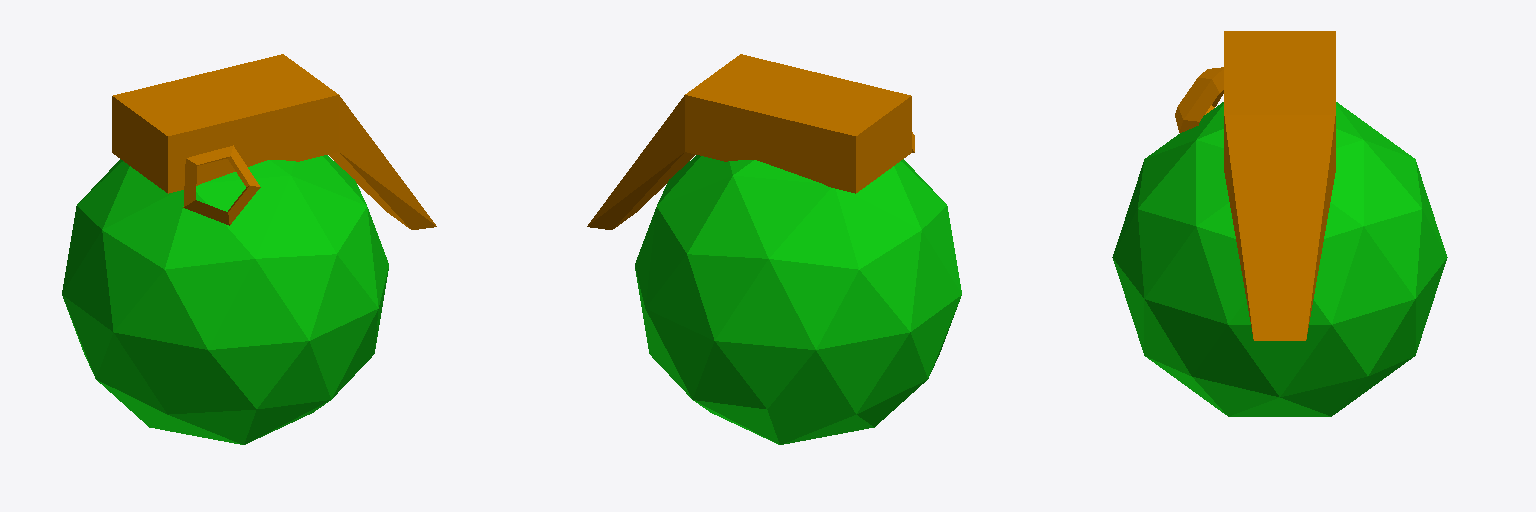
File: Grenade.obj
3 renders of one model, left to right at view 1: azimuth 30°, elevation 25°; view 2: azimuth 150°, elevation 25°; view 3: azimuth 270°, elevation 25°, orthographic.
Parts seen in each view (by area): view 1: Icosphere, Cube_Cube.001; view 2: Icosphere, Cube_Cube.001; view 3: Icosphere, Cube_Cube.001.
Part boxes in pixels (bbox=[...]): Icosphere: bbox=[62, 155, 388, 444]; Cube_Cube.001: bbox=[112, 54, 436, 229]; Icosphere: bbox=[635, 155, 961, 444]; Cube_Cube.001: bbox=[587, 54, 914, 229]; Icosphere: bbox=[1112, 102, 1447, 416]; Cube_Cube.001: bbox=[1175, 31, 1335, 340].
Size of the model in its own units: 2.32 by 2.22 by 2.